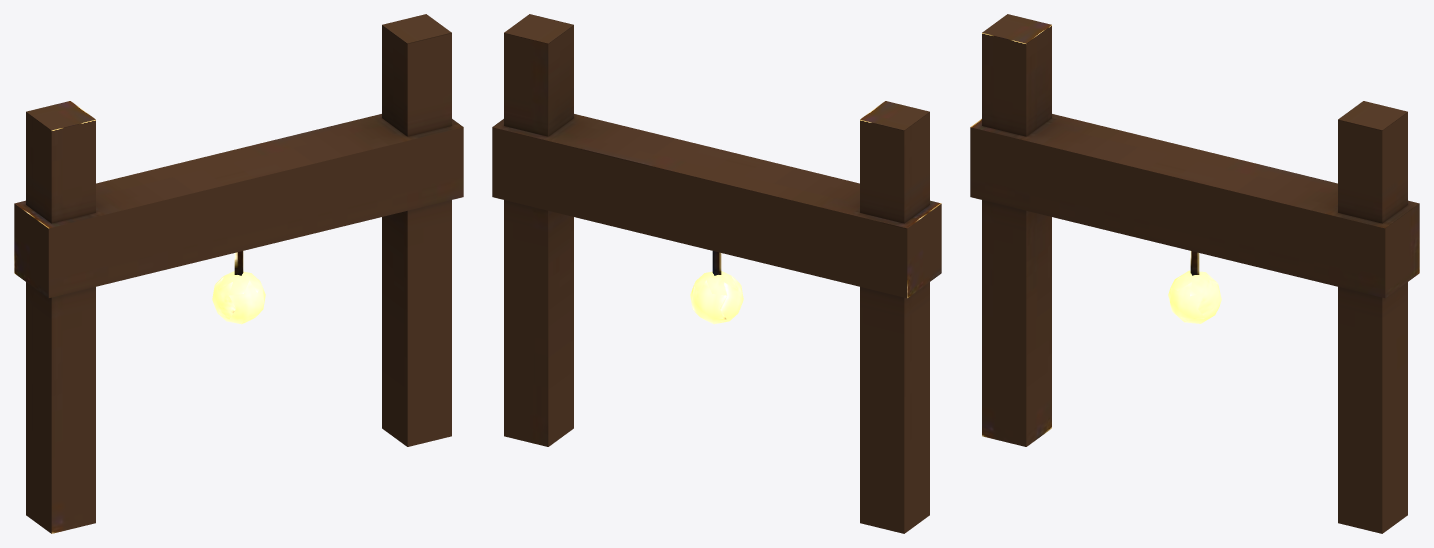
File: puntal.glb
3 views of the same model, side by side, from view 1: azimuth 30°, elevation 25°; view 2: azimuth 150°, elevation 25°; view 3: azimuth 330°, elevation 25° (orthographic).
Parts seen in each view (by area): view 1: puntal; view 2: puntal; view 3: puntal.
Part boxes in pixels (x1,y1,x2,y2): puntal: (14,14,463,533); puntal: (492,14,941,533); puntal: (970,14,1419,533).
Bounding box in the file's own units: 2.8 × 2.6 × 0.4.
Materials: 1 (1 with a texture image).
